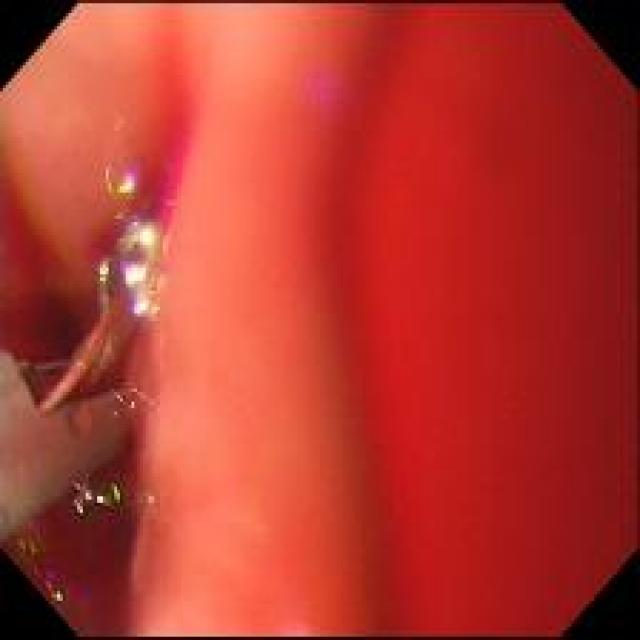color misalignment: (270, 5, 637, 630), (47, 576, 64, 604), (104, 161, 118, 194), (126, 166, 145, 189), (122, 233, 137, 253), (112, 485, 120, 502), (19, 541, 26, 553), (31, 546, 37, 557)
instrument: (2, 218, 163, 544)
specularity: (127, 269, 146, 285), (138, 300, 150, 315), (140, 227, 152, 242), (120, 182, 135, 191), (78, 502, 84, 515), (98, 496, 105, 504), (85, 494, 90, 500)
